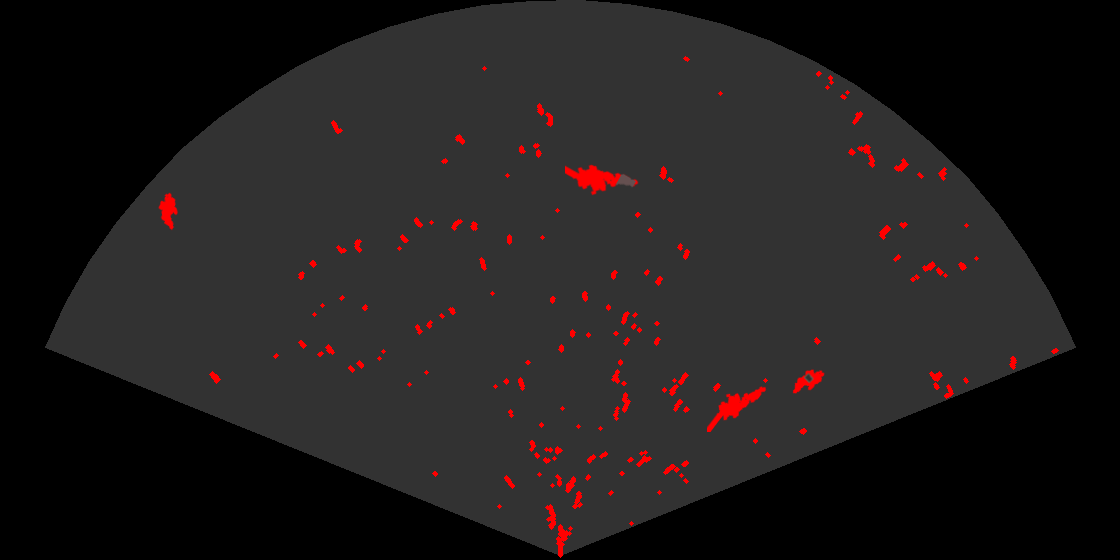AUV: (791, 368, 826, 395), (157, 191, 179, 232)
frogman: (707, 385, 768, 432), (565, 163, 640, 197)
